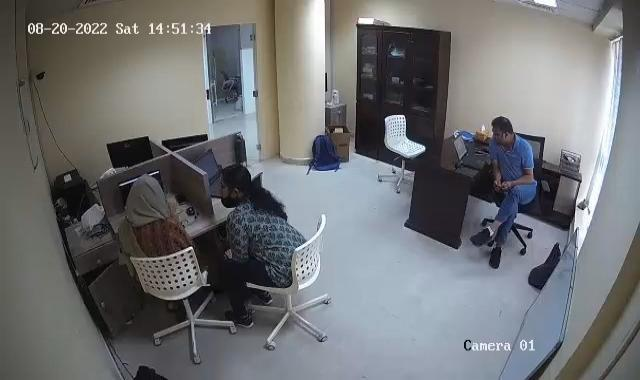no_hairnet: (124, 174, 168, 217), (216, 162, 252, 197), (485, 110, 517, 148)
